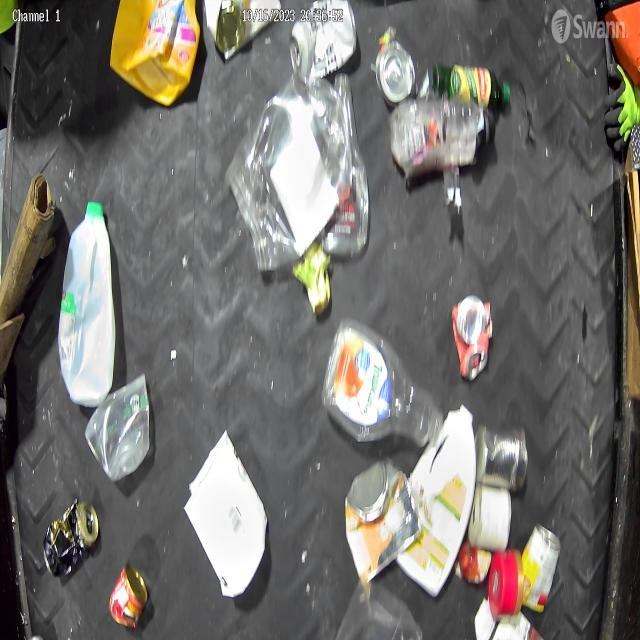can: (343, 457, 426, 592), (288, 0, 358, 90), (42, 500, 104, 588), (478, 420, 534, 500), (514, 520, 558, 621), (450, 282, 493, 385), (378, 22, 422, 120), (99, 560, 150, 640)
milk_jug: (56, 197, 126, 422)
non_white_jug: (107, 0, 203, 108)
